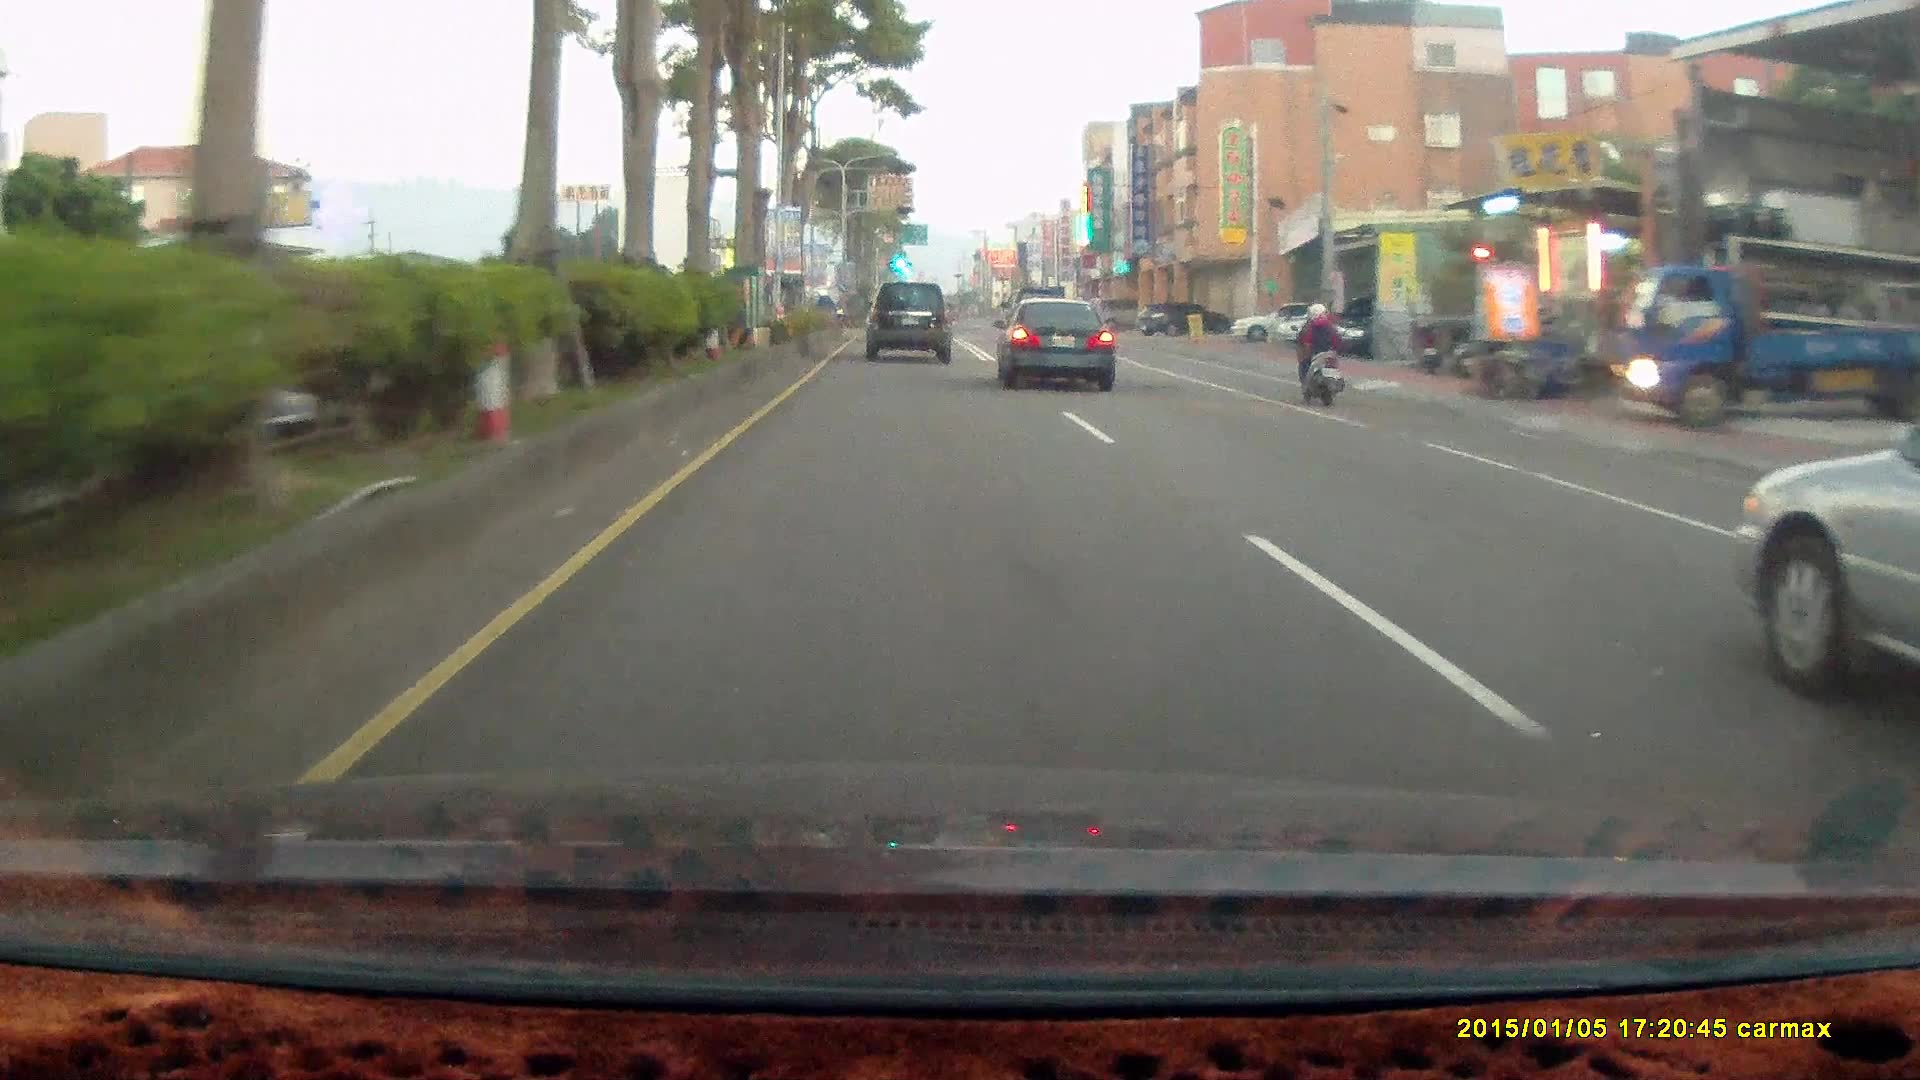rider: (1283, 291, 1357, 413), (1286, 300, 1345, 404)
vehicle: (1726, 404, 1919, 716), (1611, 233, 1911, 431), (1736, 399, 1920, 714), (1610, 260, 1920, 428), (998, 296, 1121, 394), (993, 296, 1117, 390), (864, 280, 950, 363), (871, 282, 955, 367), (1331, 297, 1447, 356), (1232, 301, 1346, 345), (1137, 301, 1230, 336), (1090, 295, 1159, 331)
